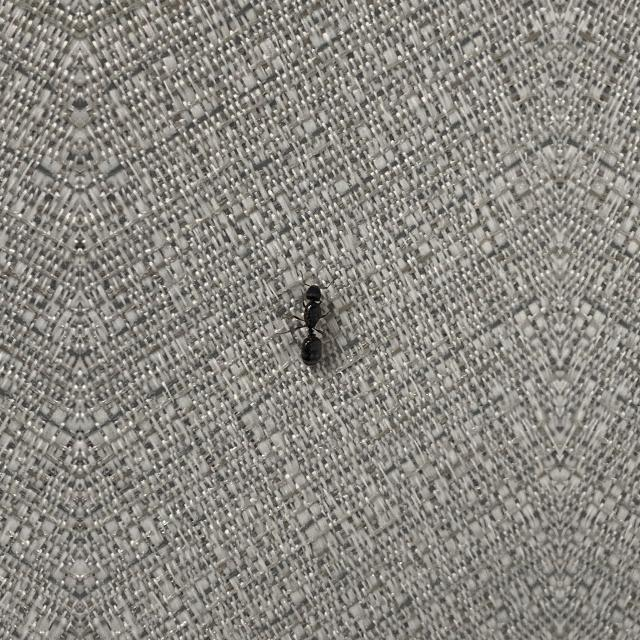Tetramorium: (286, 260, 344, 374)
